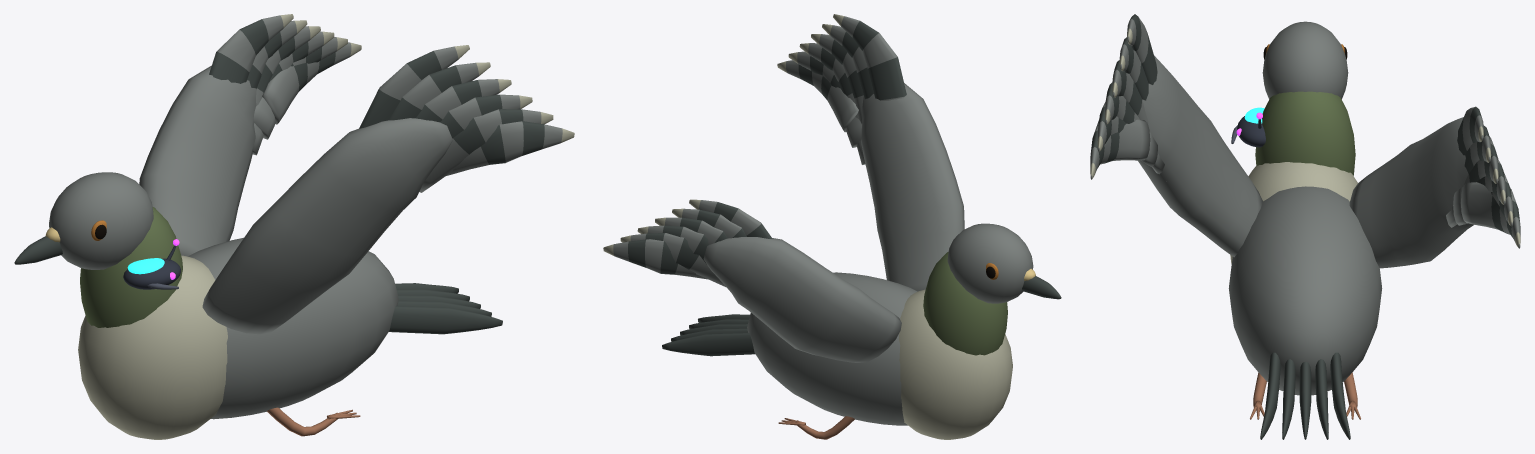
The model's file is controlled_pigeon.glb.
The picture shows the model from 3 angles, left to right: view 1: azimuth 30°, elevation 25°; view 2: azimuth 150°, elevation 25°; view 3: azimuth 270°, elevation 25°; orthographic projection. The views are drawn at different scales.
Parts seen in each view (by area): view 1: WingCoverts, Breast, Body, WingCoverts.001, Head, Neck, FlightFeather_5, FlightFeather_0, FlightFeather_0.001, FlightFeather_4, TailFeather_0, FlightFeather_5.001 (+11 smaller); view 2: WingCoverts, WingCoverts.001, Breast, Body, Neck, Head, FlightFeather_0, FlightFeather_5.001, TailFeather_4, FlightFeather_5, FlightFeather_4.001, FlightFeather_0.001 (+9 smaller); view 3: Body, WingCoverts, WingCoverts.001, Neck, Head, Breast, FlightFeather_5.001, FlightFeather_5, FlightFeather_0, FlightFeather_2, FlightFeather_3, TailFeather_0 (+12 smaller).
Boxes of the visible parts, <box> form: WingCoverts: <box>202,118,452,334</box>; Breast: <box>78,255,227,439</box>; Body: <box>188,237,398,419</box>; WingCoverts.001: <box>139,65,256,256</box>; Head: <box>49,172,153,269</box>; Neck: <box>80,207,182,327</box>; FlightFeather_5: <box>446,121,574,175</box>; FlightFeather_0: <box>359,45,469,128</box>; FlightFeather_0.001: <box>209,14,293,83</box>; FlightFeather_4: <box>419,109,553,192</box>; TailFeather_0: <box>389,306,502,334</box>; FlightFeather_5.001: <box>262,42,361,124</box>; WingCoverts: <box>861,83,964,291</box>; WingCoverts.001: <box>703,237,901,362</box>; Breast: <box>899,289,1012,439</box>; Body: <box>747,272,917,425</box>; Neck: <box>923,252,1007,355</box>; Head: <box>947,223,1033,303</box>; FlightFeather_0: <box>833,14,906,100</box>; FlightFeather_5.001: <box>603,239,707,279</box>; TailFeather_4: <box>662,333,754,356</box>; FlightFeather_5: <box>777,60,858,132</box>; FlightFeather_4.001: <box>620,233,725,286</box>; FlightFeather_0.001: <box>689,199,772,238</box>; Body: <box>1228,186,1382,395</box>; WingCoverts: <box>1137,55,1263,257</box>; WingCoverts.001: <box>1349,117,1498,268</box>; Neck: <box>1255,91,1355,175</box>; Head: <box>1262,21,1348,99</box>; Breast: <box>1230,162,1357,263</box>; FlightFeather_5.001: <box>1461,182,1520,248</box>; FlightFeather_5: <box>1090,119,1150,179</box>; FlightFeather_0: <box>1127,14,1157,84</box>; FlightFeather_2: <box>1112,60,1166,181</box>; FlightFeather_3: <box>1105,82,1164,174</box>; TailFeather_0: <box>1260,352,1280,439</box>.
Size of the model in its own units: 1.83 by 1.56 by 1.46.
